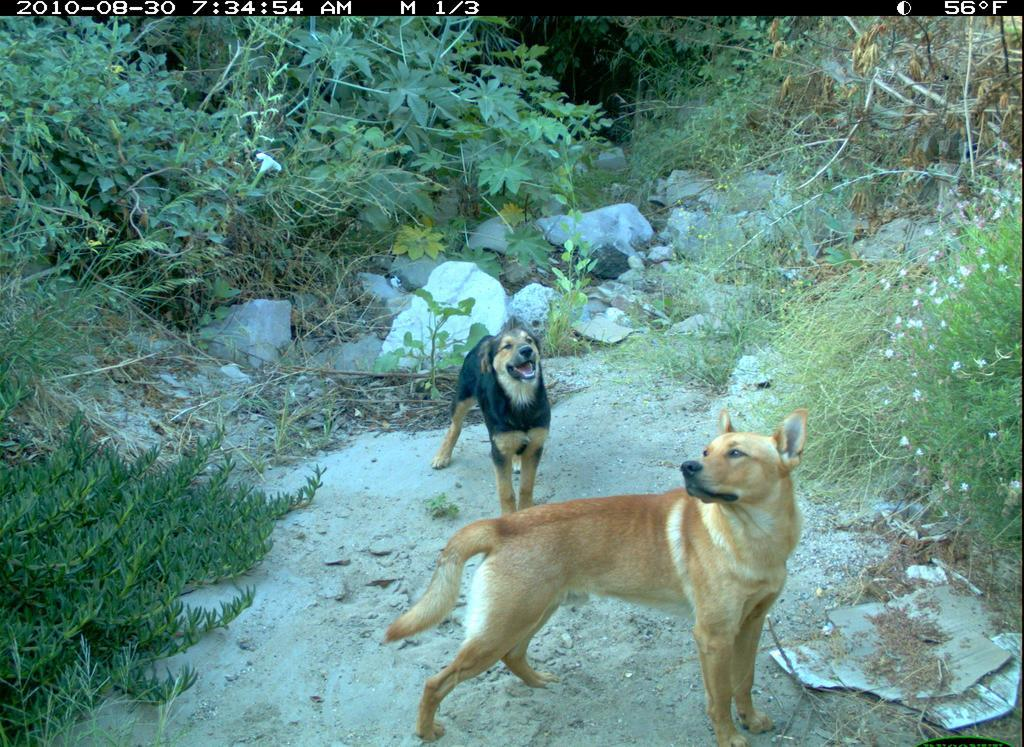dog: (381, 410, 815, 745), (428, 313, 565, 532)
